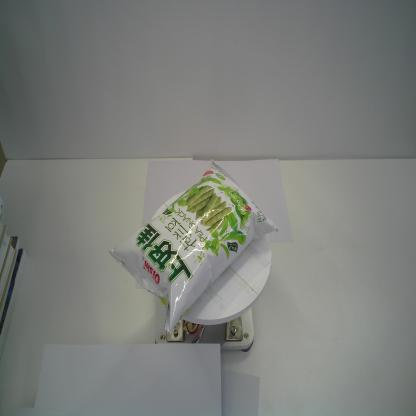Puffed Food: (108, 156, 281, 335)
